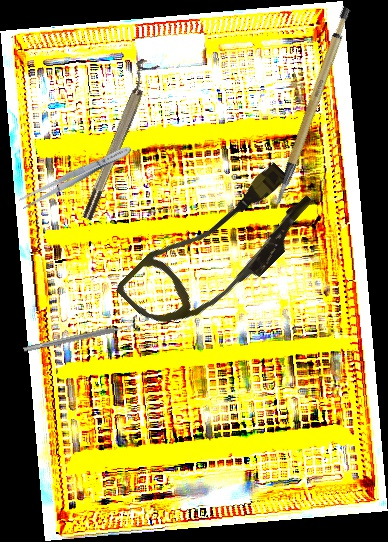Cannula: (113, 145, 325, 356)
Dressing Forceps: (17, 141, 135, 212)
Fixation Ring: (72, 57, 161, 222), (21, 313, 141, 359)
Scalpel Handle: (244, 5, 377, 207)
